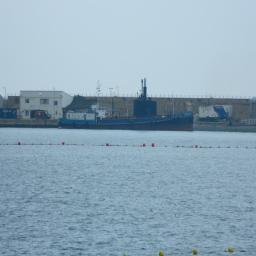submarine: (132, 76, 159, 118)
